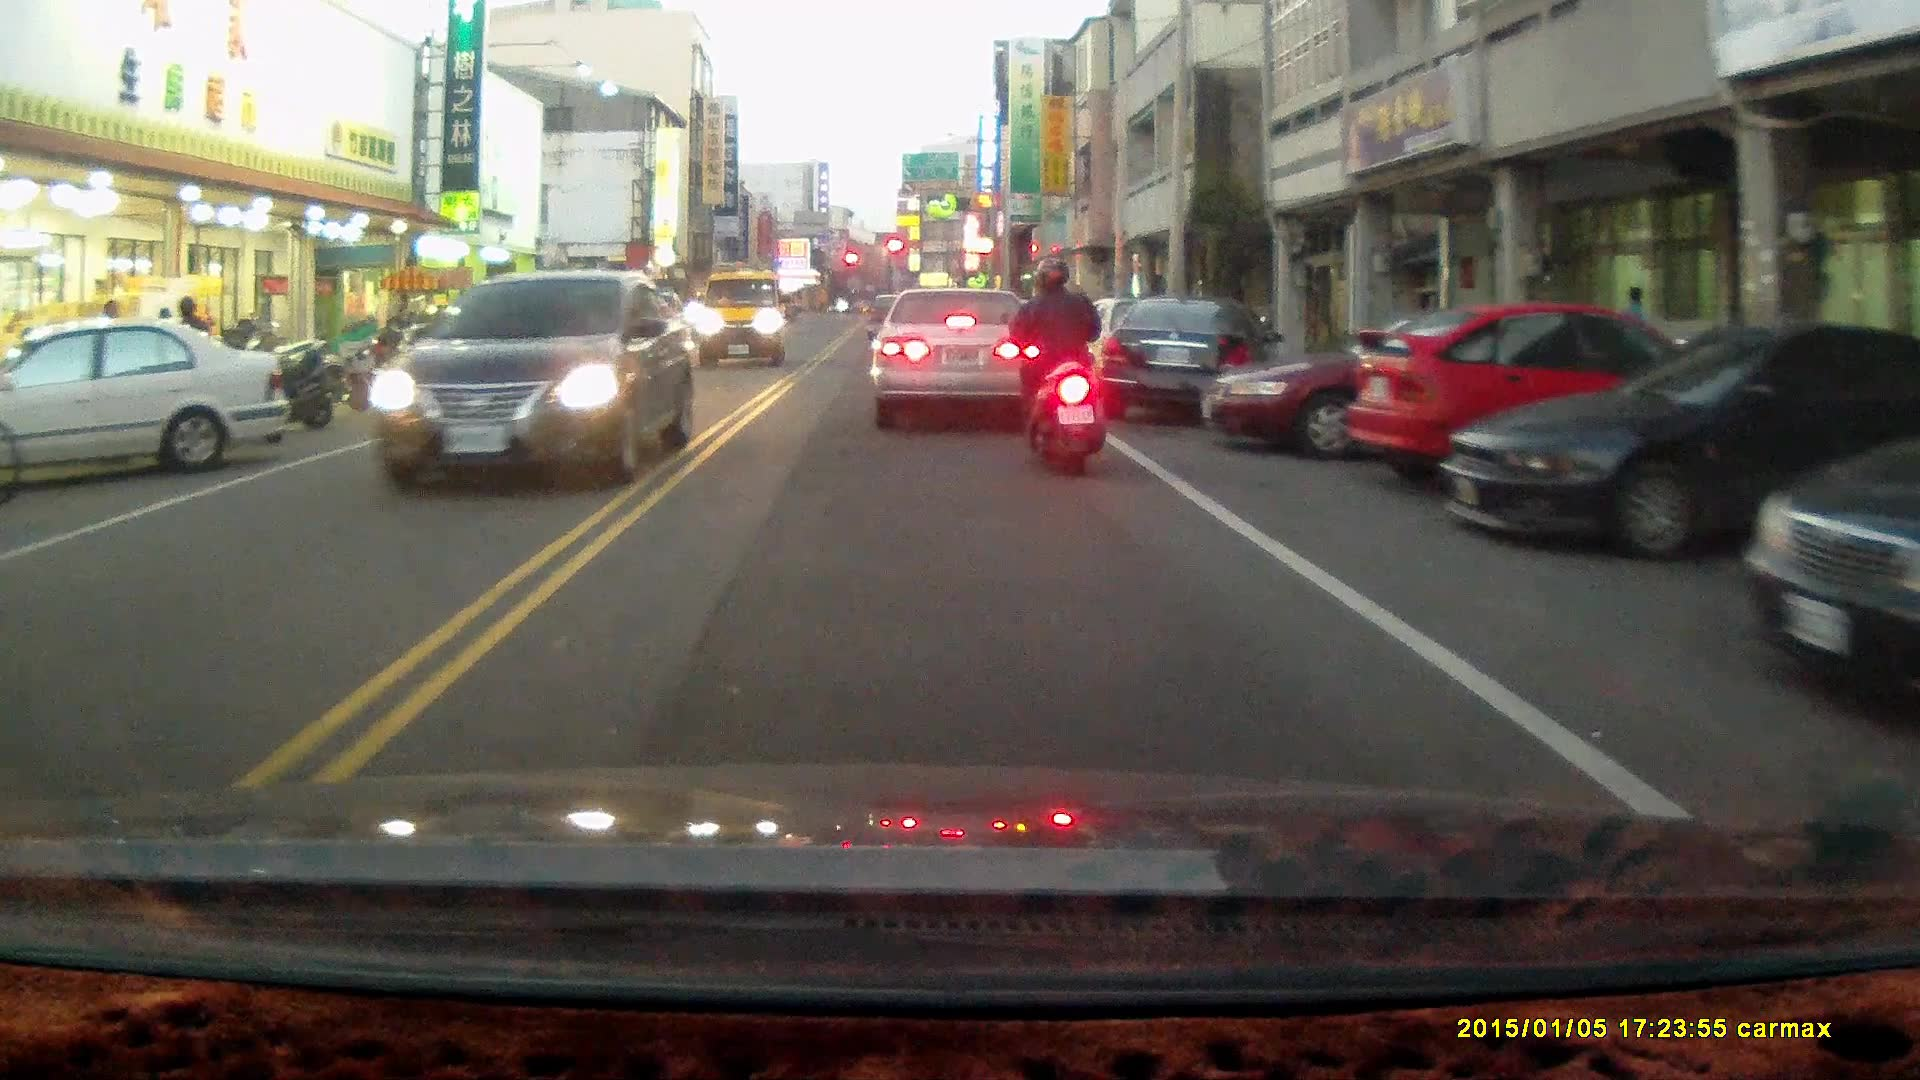rider: (1000, 254, 1113, 476)
vehicle: (1437, 319, 1920, 562), (1344, 299, 1748, 493), (372, 268, 696, 492), (1729, 369, 1920, 714), (1195, 317, 1621, 460), (1, 320, 296, 481), (867, 284, 1043, 420), (1090, 294, 1256, 423), (694, 269, 786, 367)
